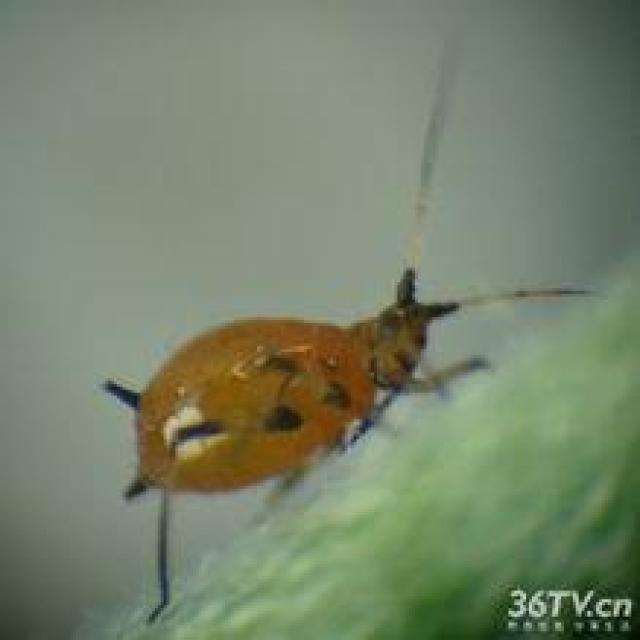Aphids: (56, 85, 612, 574)
